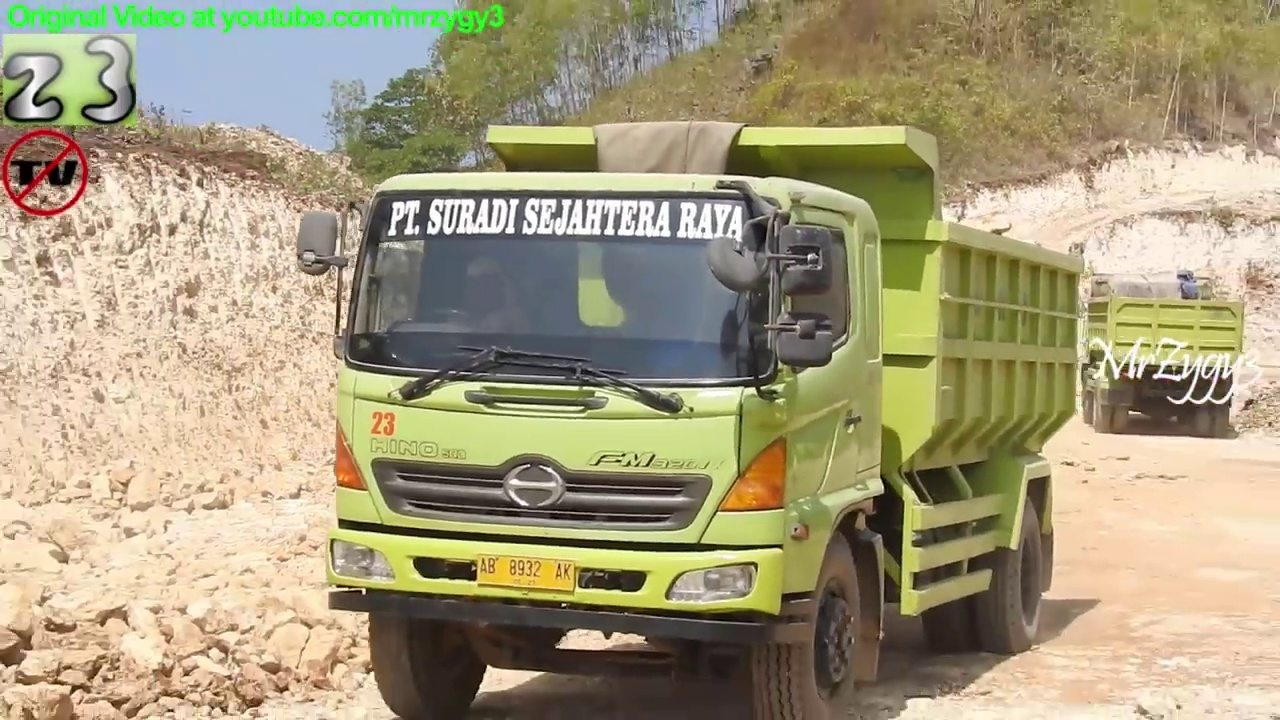truck: (291, 119, 1092, 720), (1074, 265, 1247, 441)
